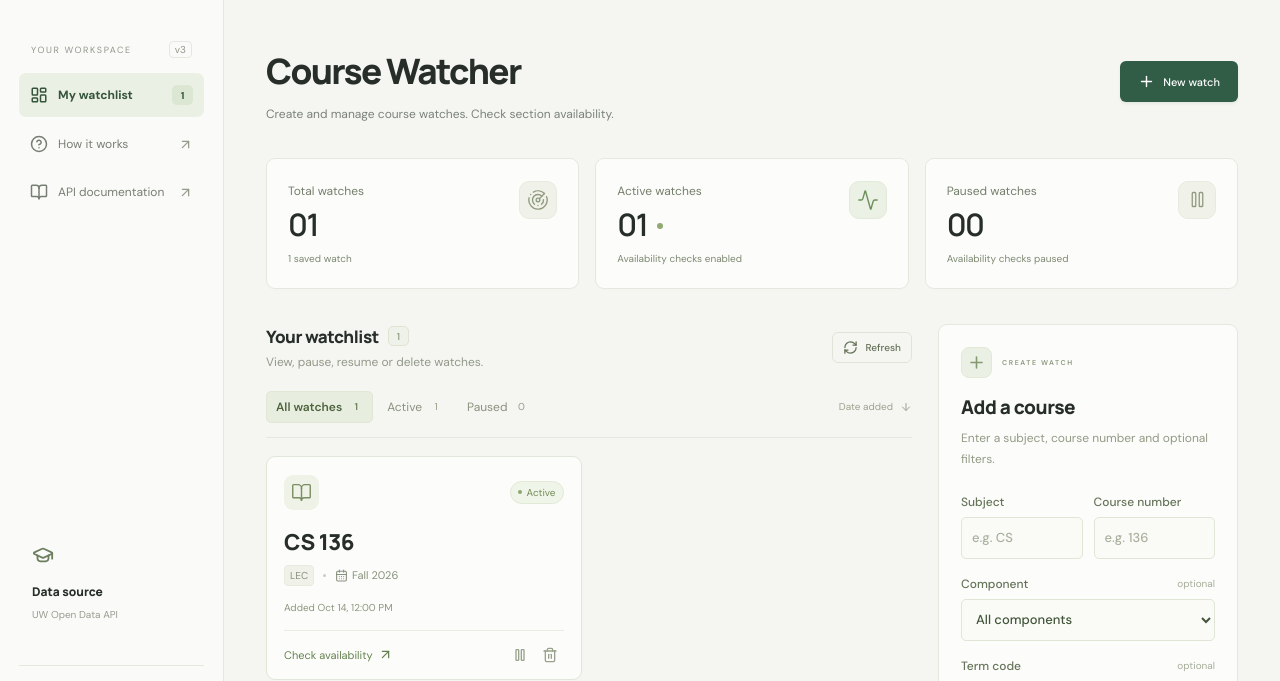
watch dashboard › shows UW failures separately and permits another status attempt
The image size is (1280, 681).
Expected: the heading "CS 136" is shown, [284,527,354,557]
Click the button with aria-label "Check availability for CS 136" at (338, 655), box [284,641,393,669]
(page scrolled)
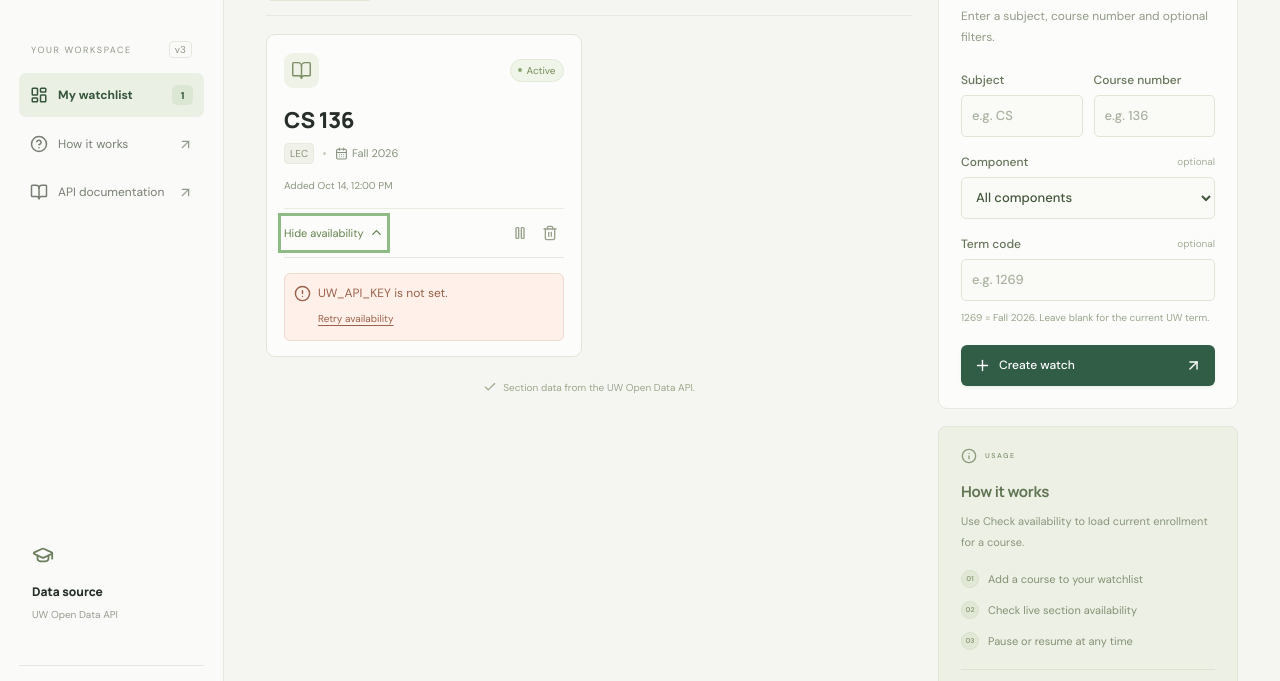
Result: the message shows "UW_API_KEY is not set." at [318,285,448,301]
Click the button "Retry availability" at (358, 319), box [318,306,398,331]
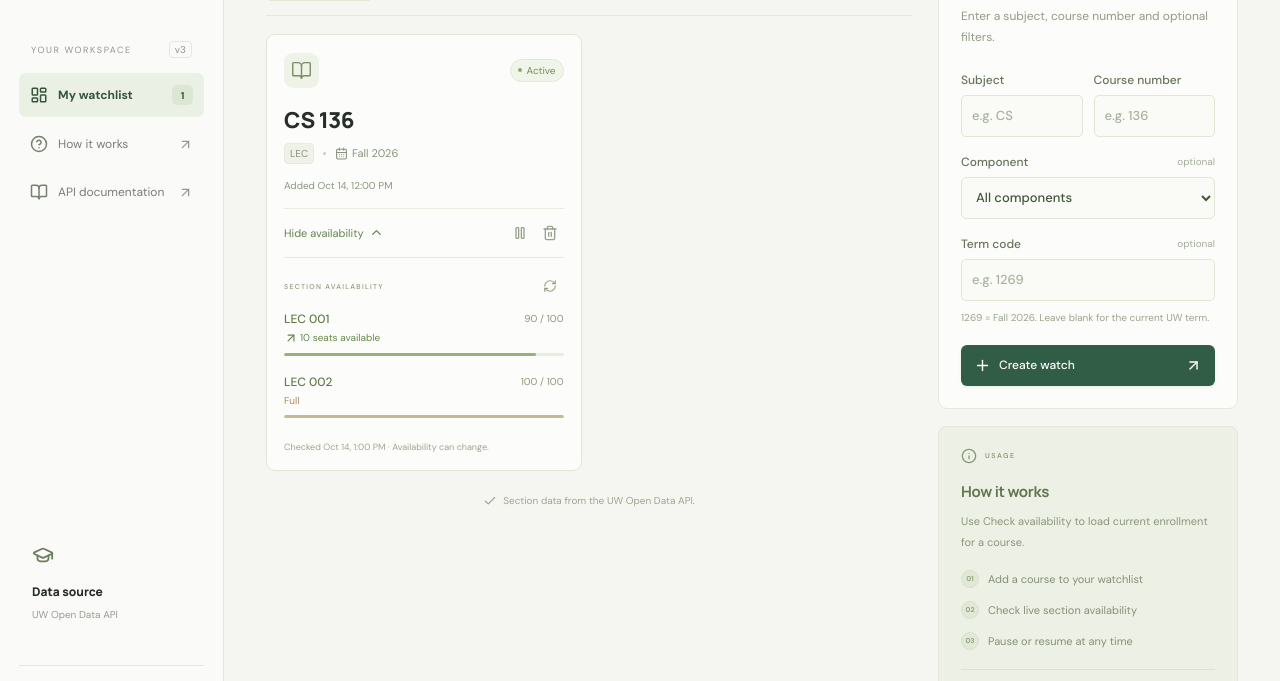
Result: the text "LEC 001" is shown at [284,311,330,327]
